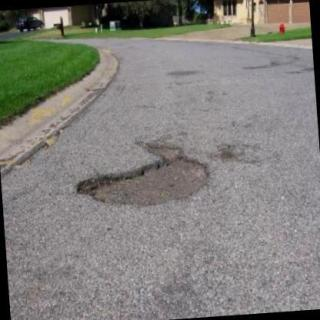pothole: (75, 142, 209, 205)
